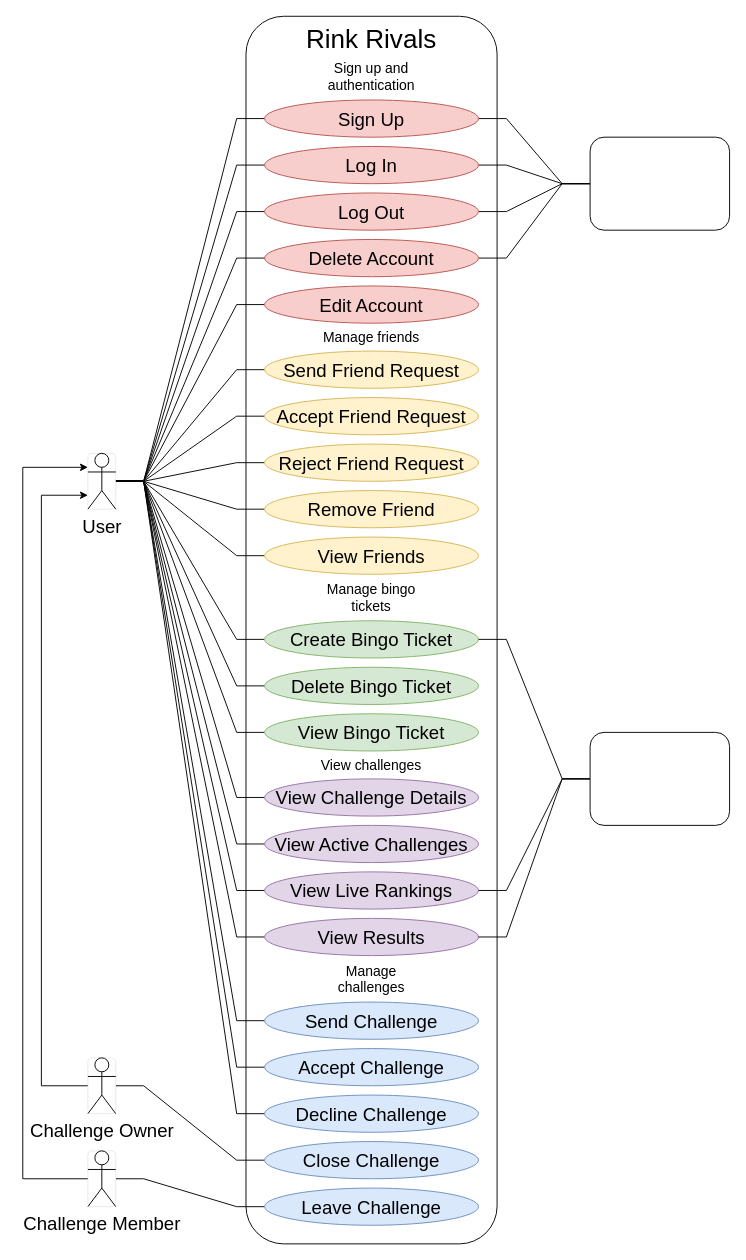
Image size: 746x1260. Some labels were removed from this diagram. Here are the shapes that lost their labels. From the top down, the box of each, then its label:
(589, 136, 730, 230): Google Authentication Service
(589, 731, 730, 825): Live NHL statistics Service
